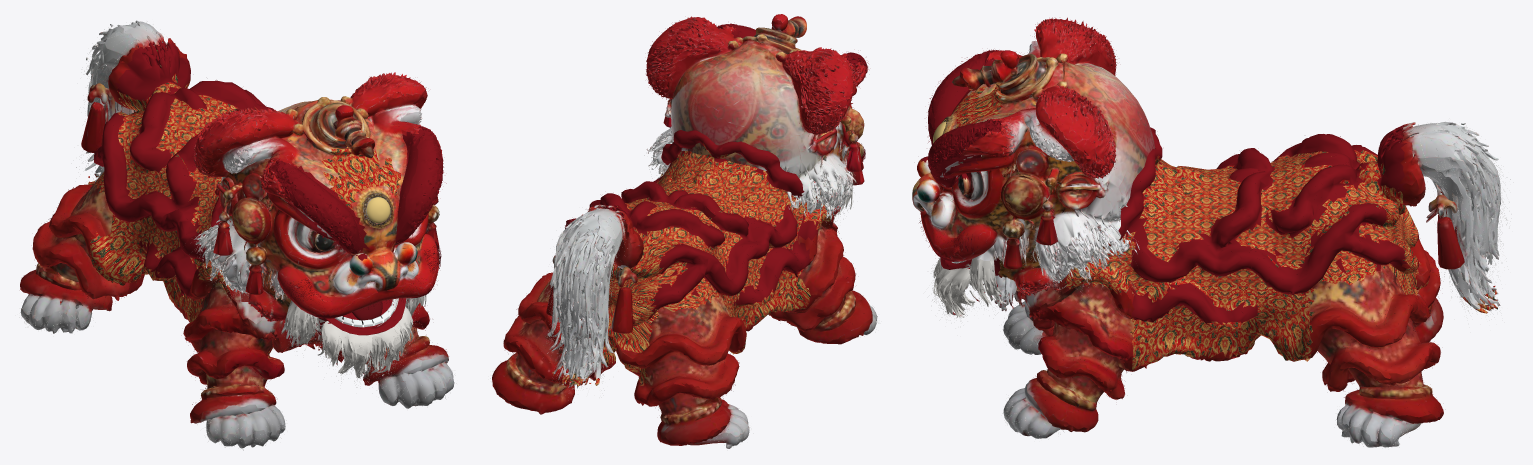
File: lion-structure-optimized.glb
The picture shows the model from 3 angles, left to right: view 1: azimuth 30°, elevation 25°; view 2: azimuth 150°, elevation 25°; view 3: azimuth 270°, elevation 25°; orthographic projection. The views are drawn at different scales.
Visible parts, largest first — view 1: Lion_Nose, Lion_Body_Red_Trim, Lion_Foreleg_R, Lion_Hindleg_R, Lion_Body, Lion_Ear_R, Lion_Tail, Lion_Brow_L, Lion_Brow_R, Lion_Beard, Lion_Crown, Lion_Foreleg_L (+7 smaller); view 2: Lion_Body_Red_Trim, Lion_Nose, Lion_Body, Lion_Tail, Lion_Hindleg_R, Lion_Foreleg_R, Lion_Hindleg_L, Lion_Ear_R, Lion_Ear_L, Lion_Crown, Lion_Hindpaw_R, Lion_Hindpaw_L (+2 smaller); view 3: Lion_Body_Red_Trim, Lion_Nose, Lion_Body, Lion_Hindleg_L, Lion_Tail, Lion_Foreleg_L, Lion_Ear_L, Lion_Crown, Lion_Brow_L, Lion_Forepaw_L, Lion_Hindpaw_L, Lion_Brow_R (+4 smaller).
Boxes of the visible parts, x1,y1,x2,y2 form: Lion_Nose: [193, 75, 443, 338]; Lion_Body_Red_Trim: [94, 38, 274, 300]; Lion_Foreleg_R: [183, 274, 300, 425]; Lion_Hindleg_R: [20, 180, 137, 312]; Lion_Body: [88, 45, 370, 376]; Lion_Ear_R: [193, 108, 293, 209]; Lion_Tail: [81, 20, 190, 183]; Lion_Brow_L: [390, 126, 443, 249]; Lion_Brow_R: [269, 159, 369, 260]; Lion_Beard: [286, 303, 425, 377]; Lion_Crown: [289, 96, 374, 158]; Lion_Foreleg_L: [366, 303, 448, 383]; Lion_Body_Red_Trim: [565, 130, 818, 313]; Lion_Nose: [646, 18, 867, 219]; Lion_Body: [552, 150, 833, 405]; Lion_Tail: [545, 204, 665, 382]; Lion_Hindleg_R: [639, 292, 746, 438]; Lion_Foreleg_R: [774, 214, 872, 330]; Lion_Hindleg_L: [492, 272, 565, 396]; Lion_Ear_R: [779, 48, 857, 135]; Lion_Ear_L: [646, 16, 732, 105]; Lion_Crown: [729, 14, 806, 64]; Lion_Hindpaw_R: [657, 409, 749, 448]; Lion_Hindpaw_L: [492, 384, 574, 414]; Lion_Body_Red_Trim: [1118, 125, 1407, 324]; Lion_Nose: [912, 24, 1155, 296]; Lion_Body: [1006, 139, 1500, 371]; Lion_Hindleg_L: [1306, 263, 1441, 425]; Lion_Tail: [1399, 122, 1500, 323]; Lion_Foreleg_L: [995, 275, 1135, 421]; Lion_Ear_L: [1002, 94, 1122, 184]; Lion_Crown: [952, 50, 1071, 101]; Lion_Brow_L: [920, 119, 1001, 185]; Lion_Forepaw_L: [1003, 390, 1098, 438]; Lion_Hindpaw_L: [1337, 404, 1443, 447]; Lion_Brow_R: [921, 49, 1001, 162].
Bounding box in the file's own units: 0.9376 × 1.01 × 1.65.
14 materials, 4 textured.
